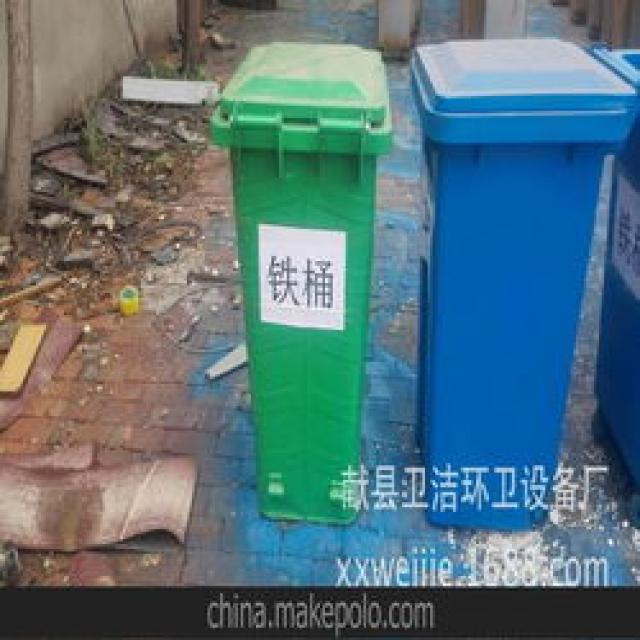garbage_bin: (404, 34, 635, 530), (207, 39, 389, 522)
